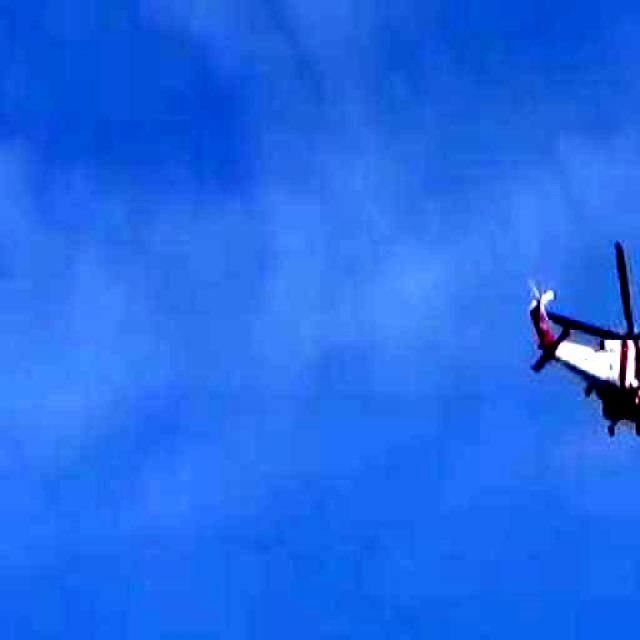drone: (468, 152, 640, 519)
